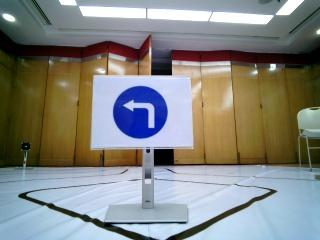left: (93, 77, 188, 145)
